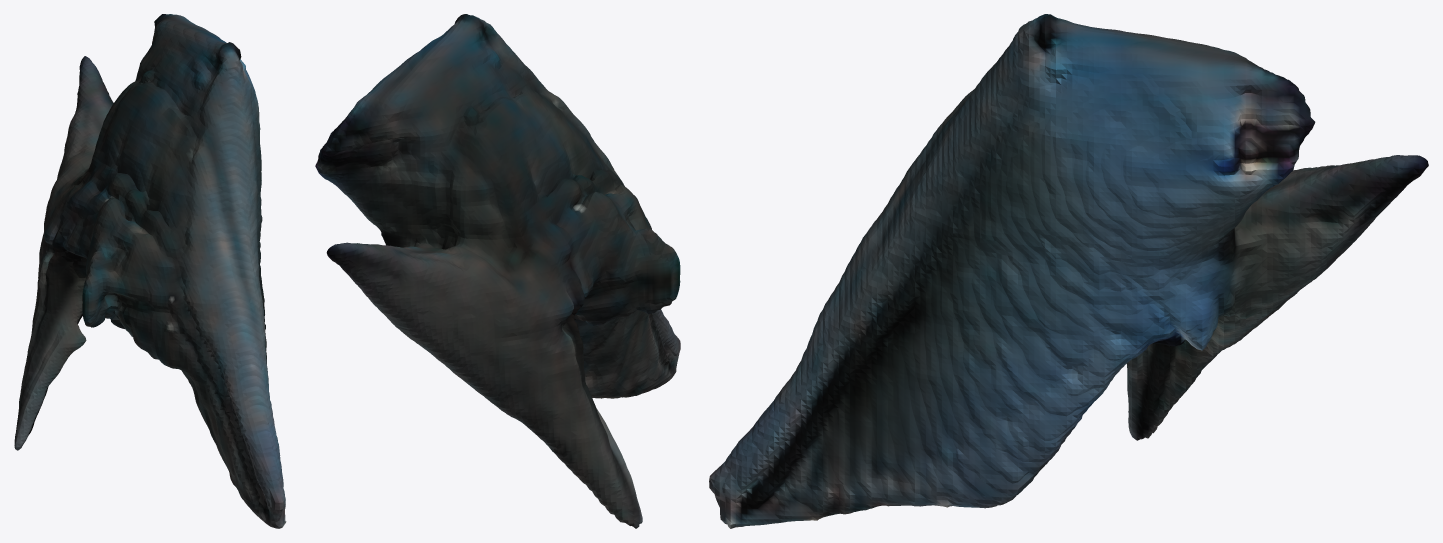
3 views of the same model, side by side, from view 1: azimuth 30°, elevation 25°; view 2: azimuth 150°, elevation 25°; view 3: azimuth 270°, elevation 25° (orthographic). The views are drawn at different scales.
Size of the model in its own units: 0.4919 by 0.7714 by 0.9057.
